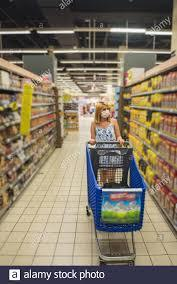with_basket: (86, 141, 144, 266)
with_mask: (96, 105, 113, 119)
